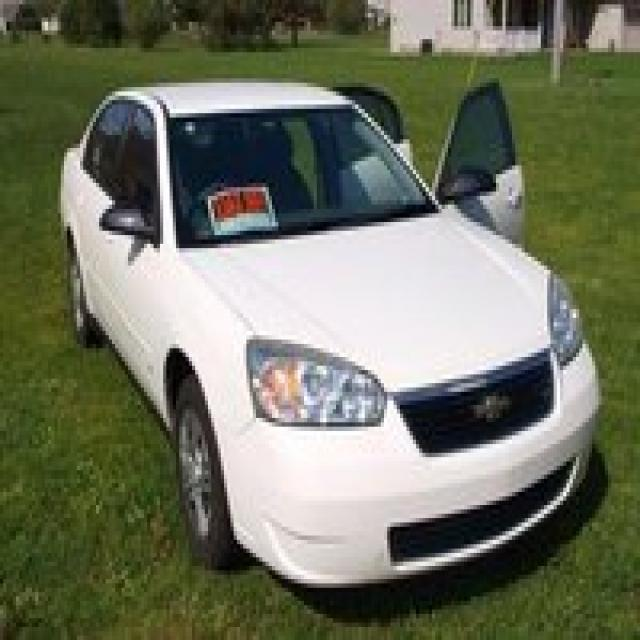Car: (33, 42, 631, 600)
